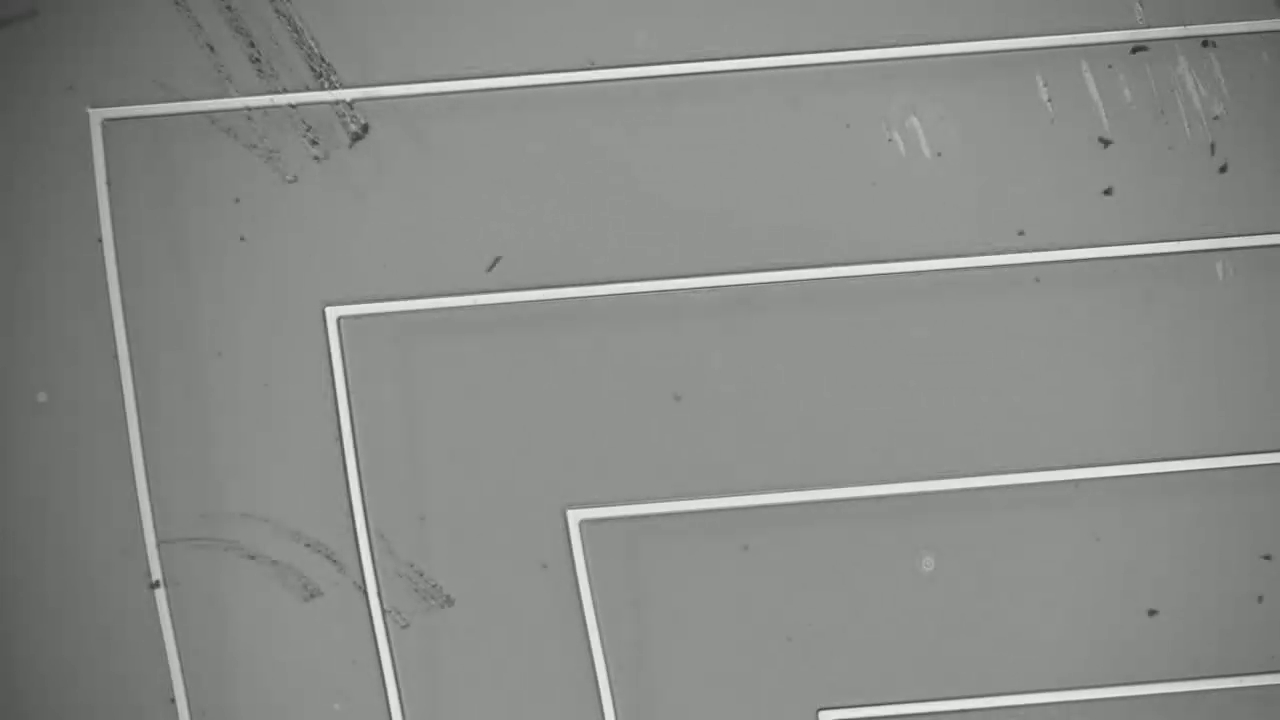scratch: (164, 1, 356, 174)
stains_enbedded: (140, 575, 178, 596)
